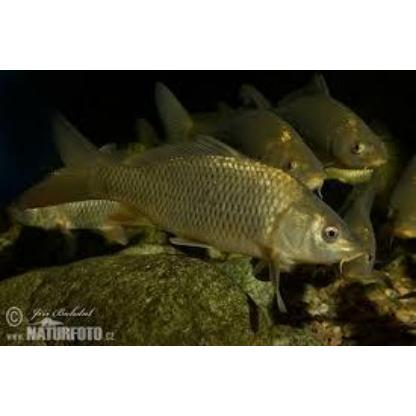ikan-mas: (34, 147, 358, 259), (212, 106, 324, 190), (7, 178, 143, 240), (298, 89, 390, 173)
